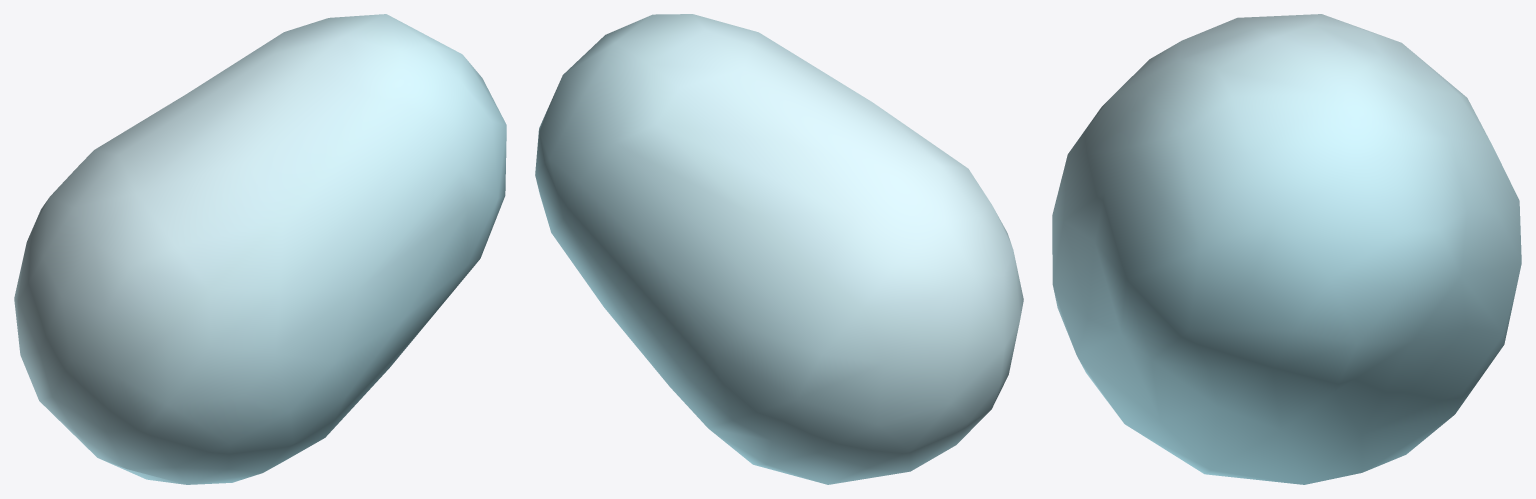
File: cloud.fbx
3 renders of one model, left to right at view 1: azimuth 30°, elevation 25°; view 2: azimuth 150°, elevation 25°; view 3: azimuth 270°, elevation 25°, orthographic. The views are drawn at different scales.
Visible parts, largest first — view 1: cloud; view 2: cloud; view 3: cloud.
Boxes of the visible parts, x1,y1,x2,y2 form: cloud: (14,14,506,484); cloud: (535,14,1023,484); cloud: (1052,14,1521,484).
Size of the model in its own units: 196 by 167 by 138.
